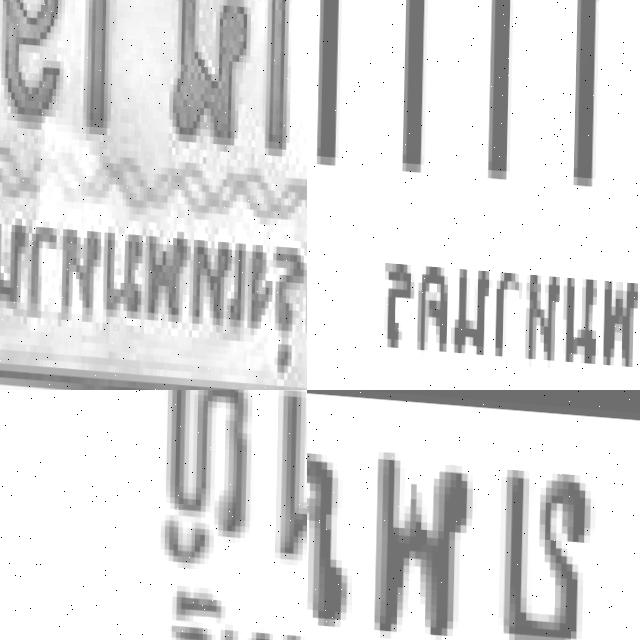license-plate: (307, 0, 640, 390), (0, 0, 307, 390), (307, 390, 640, 640), (0, 390, 307, 640)
